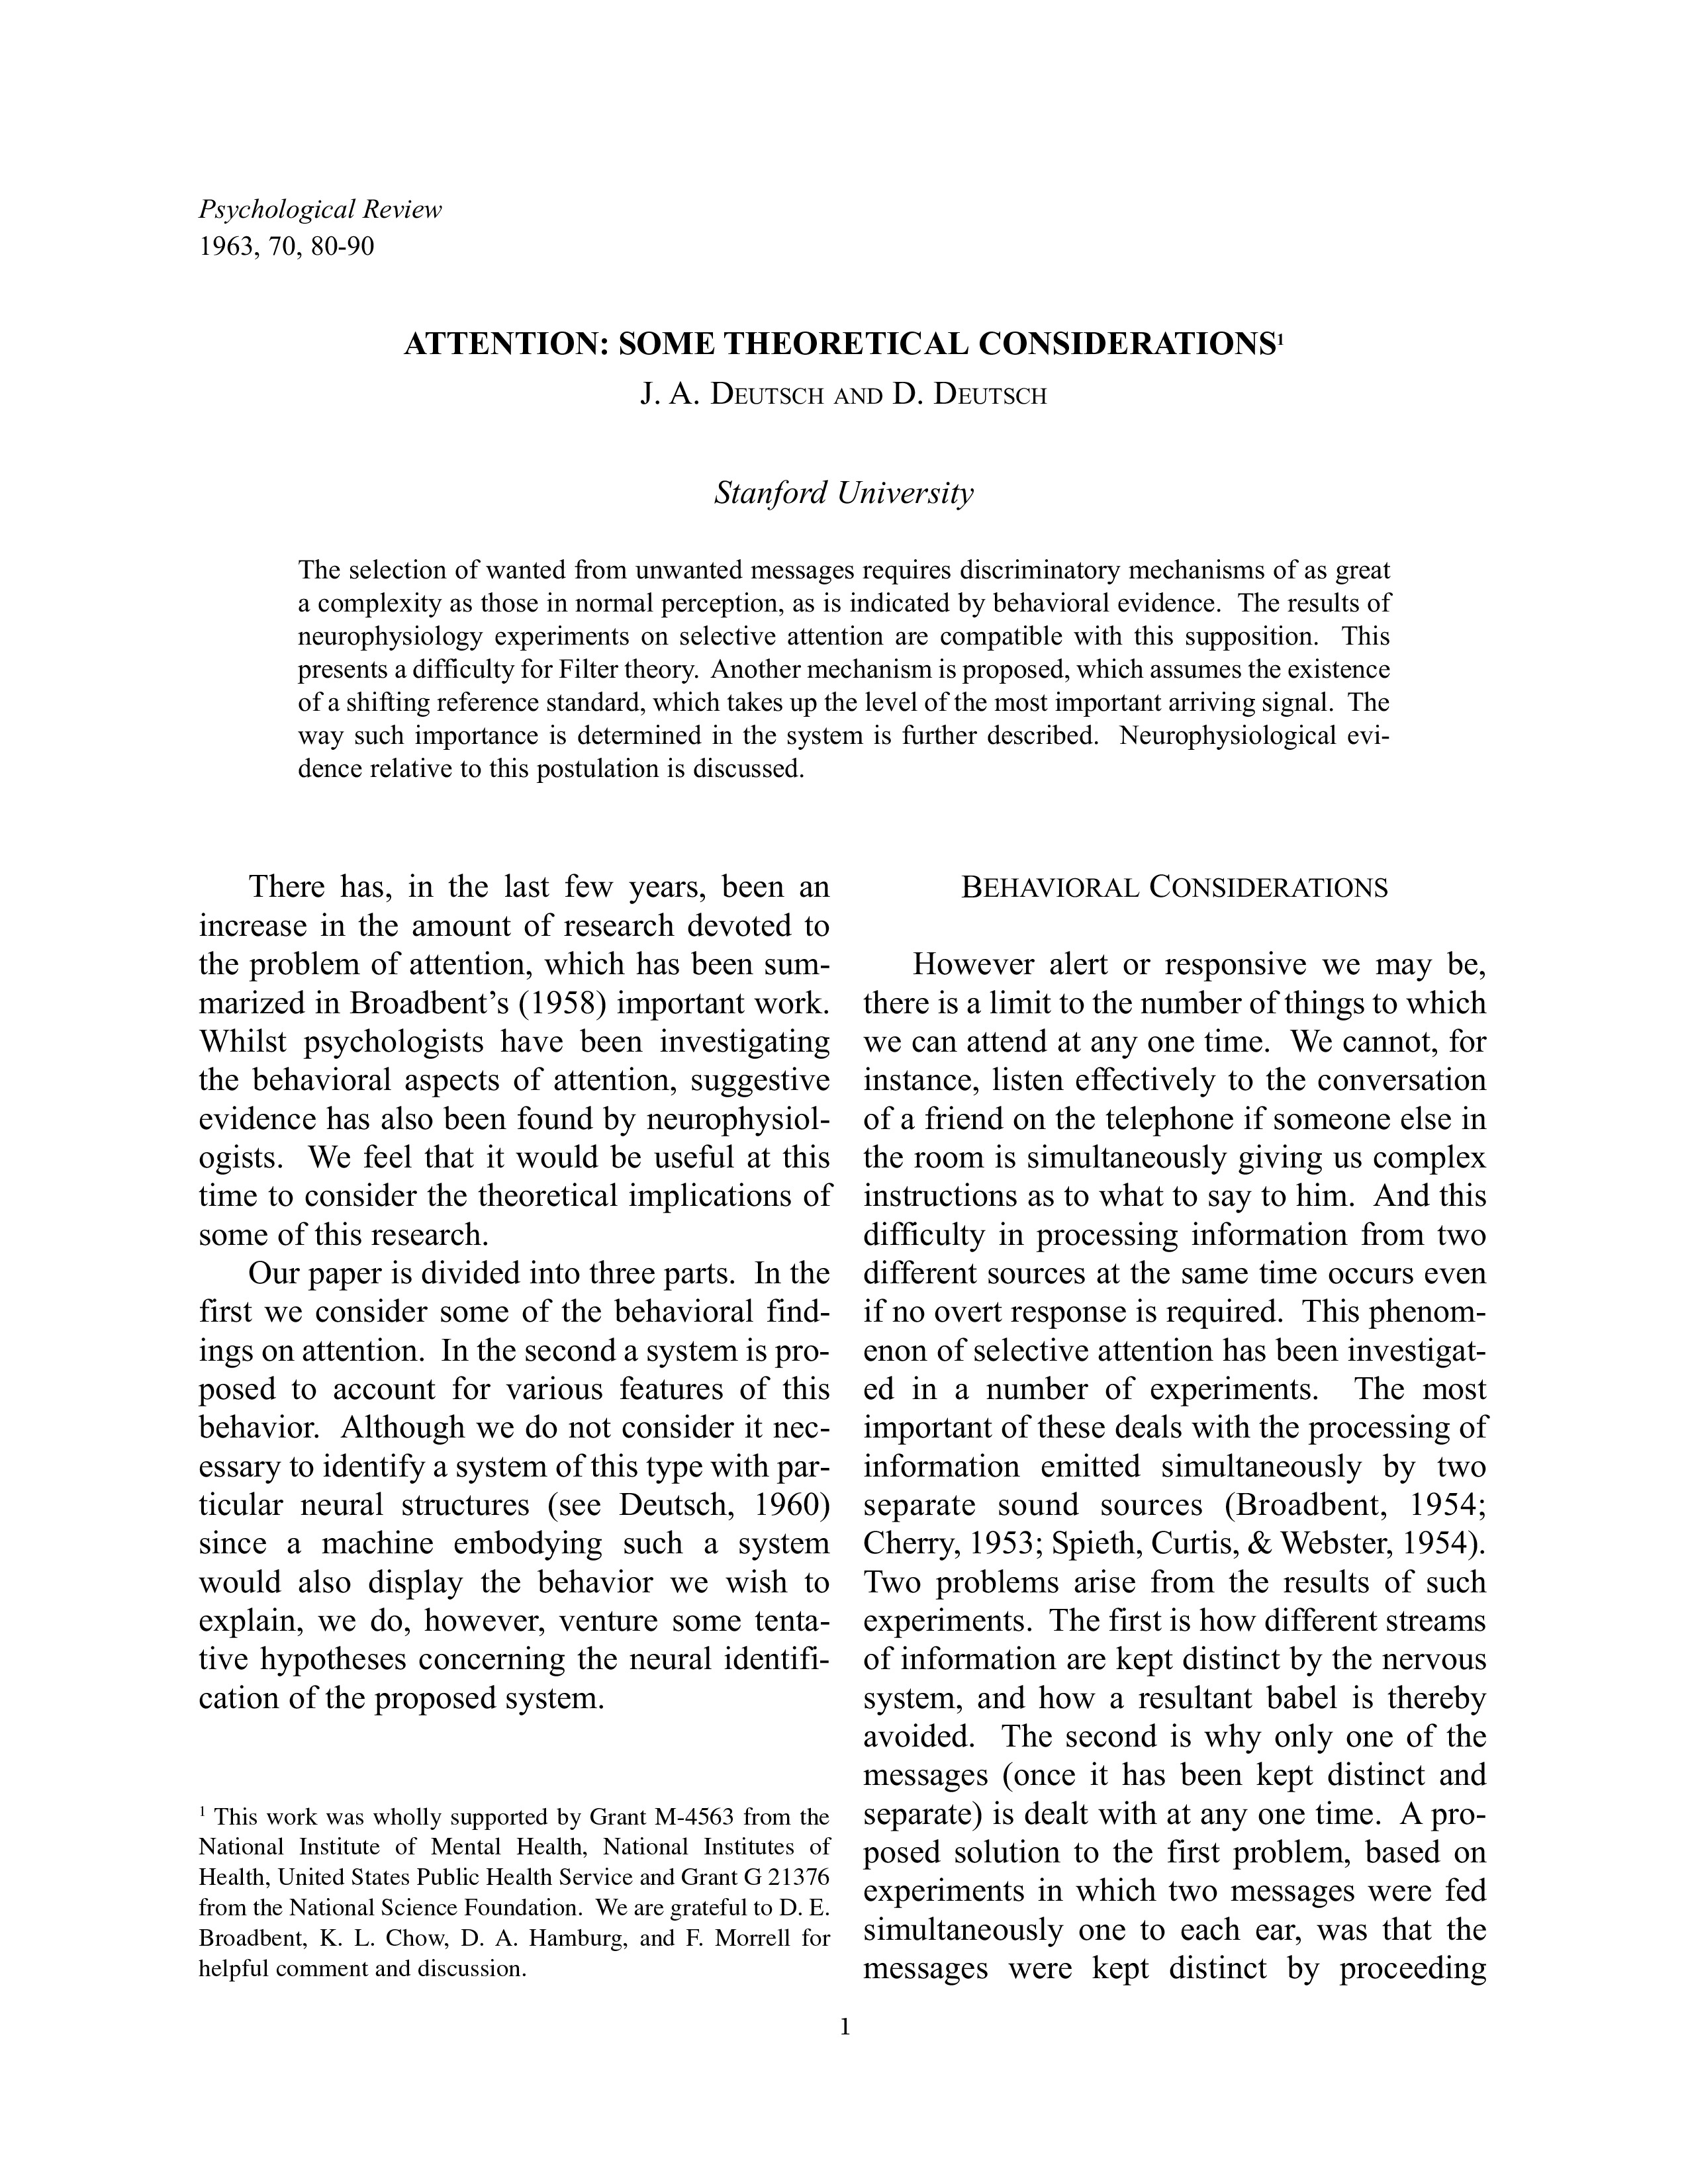section: (394, 319, 1296, 363), (626, 369, 1066, 417), (956, 853, 1422, 892), (709, 459, 975, 509)
text: (865, 932, 1502, 1968), (186, 1262, 833, 1728), (307, 546, 1418, 776), (193, 865, 823, 1244), (167, 1782, 846, 1984)
